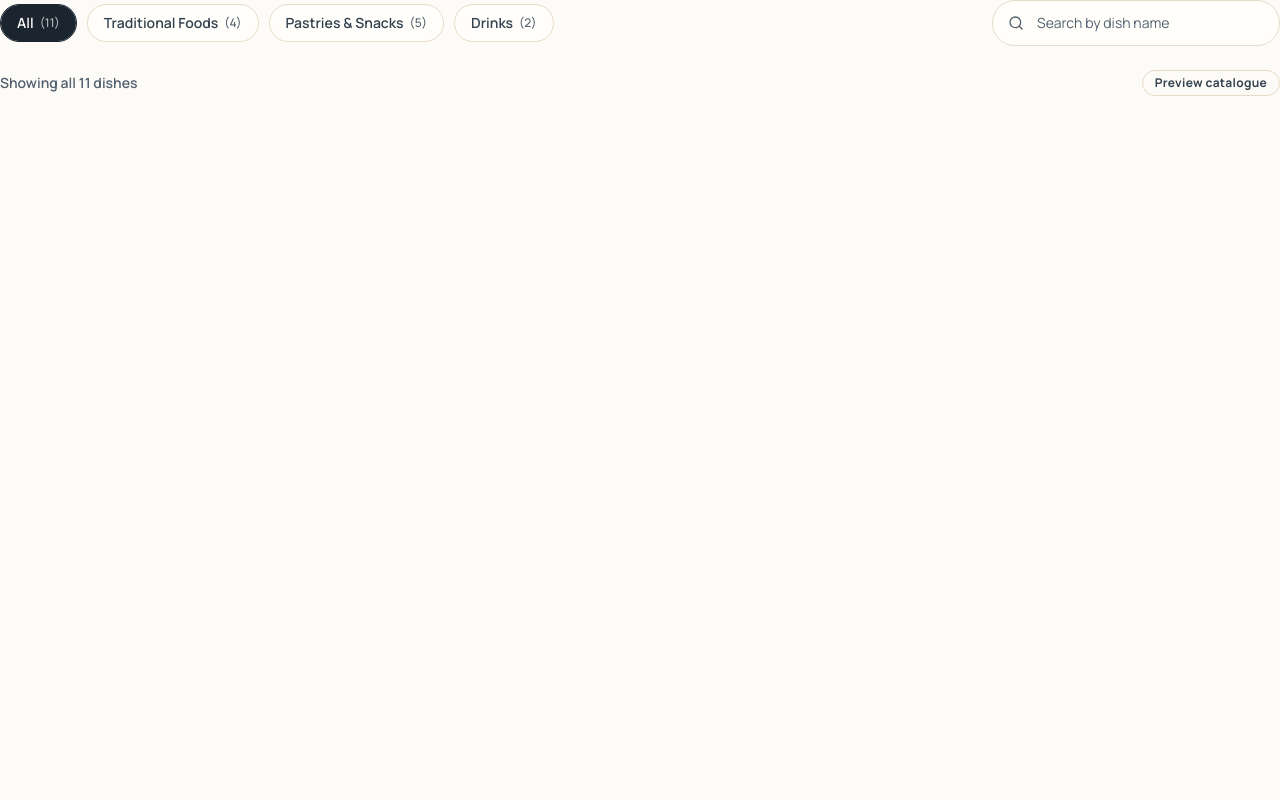
MenuExplorer search interaction (Phase 2B) › clears uncommitted typing without navigating (no redundant request)
The image size is (1280, 800).
Type "zobo" into the search field named "Search dishes by name" at (1136, 23), box 992,0 -> 1279,46
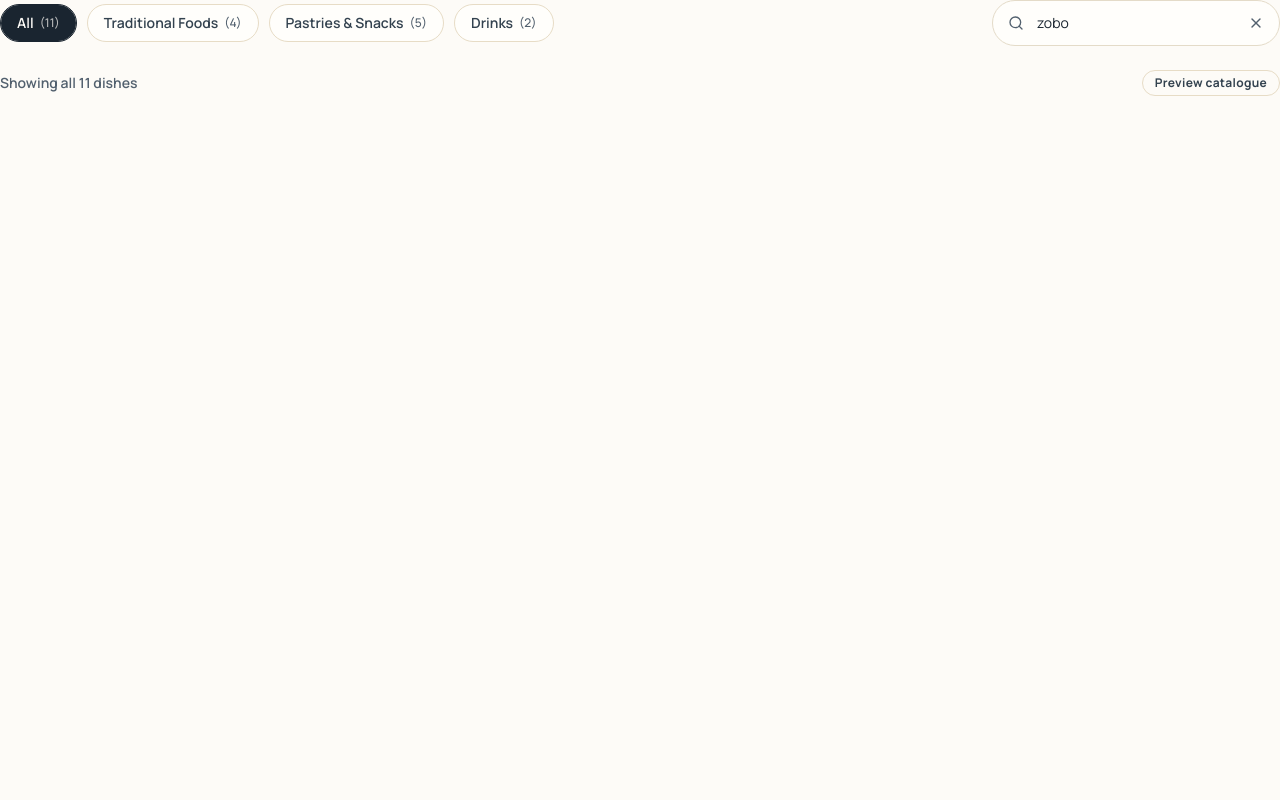
Click the button named "Clear search" at (1256, 23), box 1240,7 -> 1272,39
Wait 1000 ms
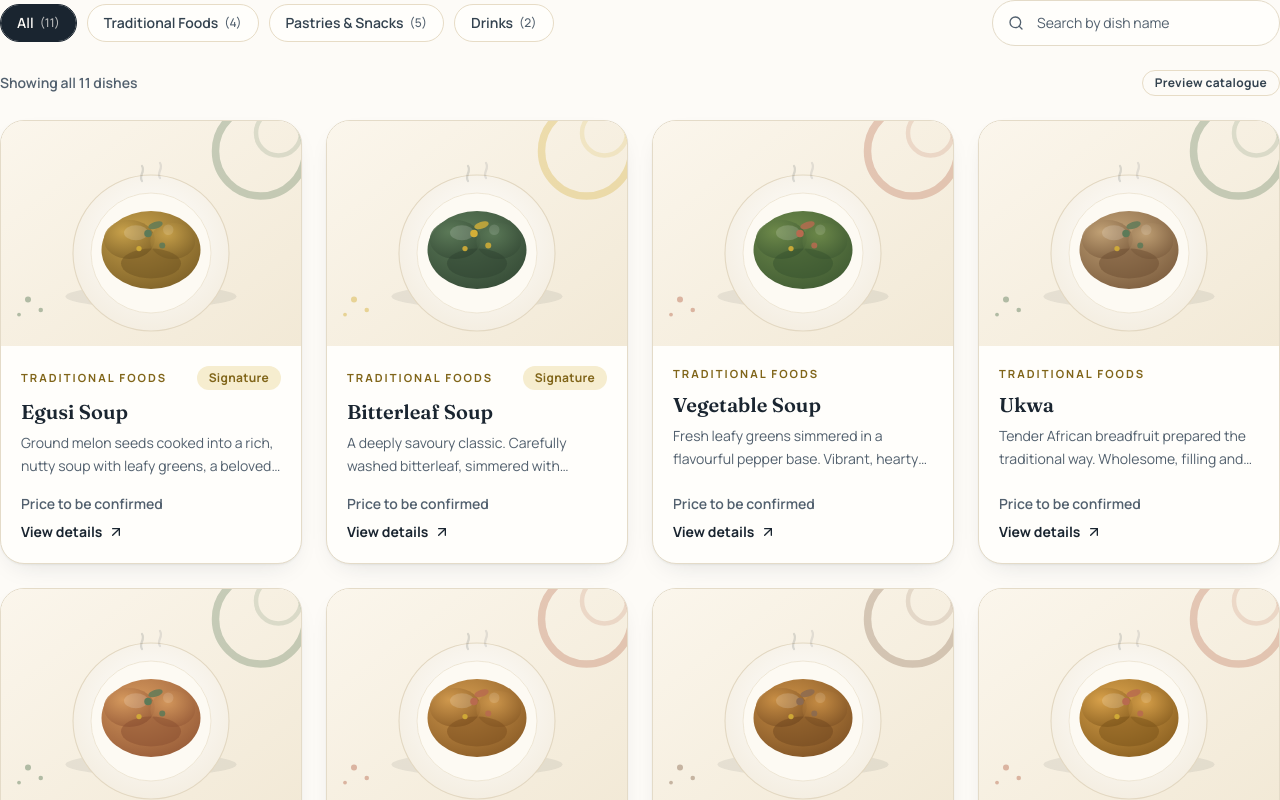
Check: the search field is empty, box 992,0 -> 1279,46
